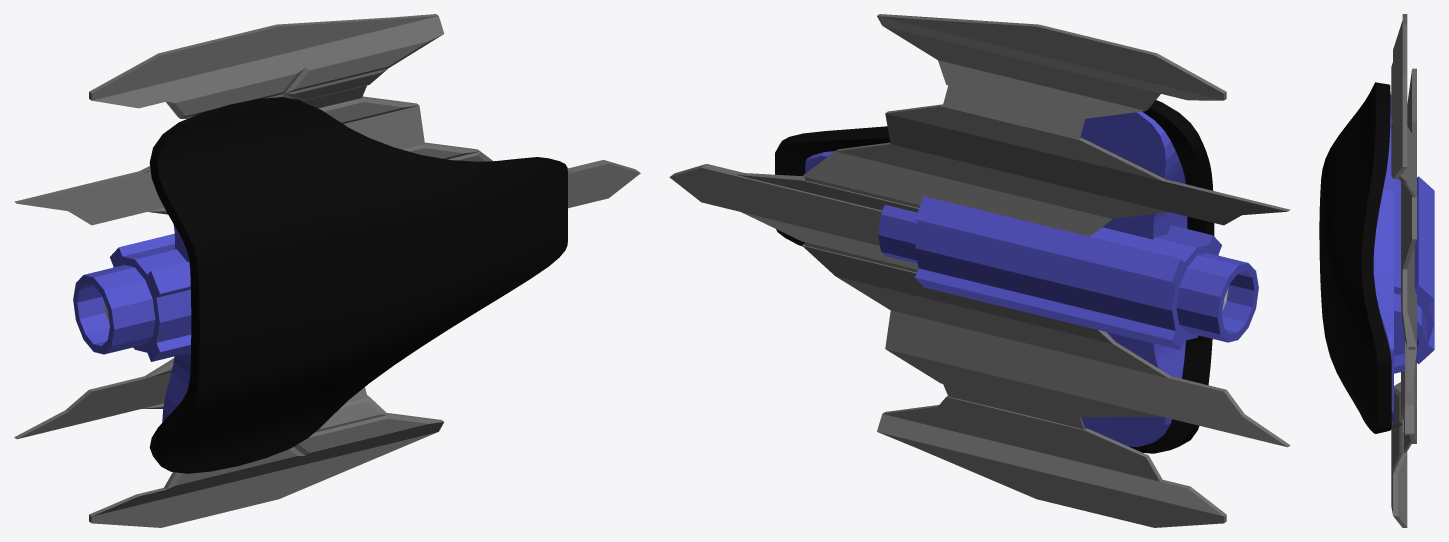
File: ship03.fbx
3 views of the same model, side by side, from view 1: azimuth 30°, elevation 25°; view 2: azimuth 150°, elevation 25°; view 3: azimuth 270°, elevation 25° (orthographic). The views are drawn at different scales.
Visible parts, largest first — view 1: ship03; view 2: ship03; view 3: ship03.
Part boxes in pixels (x1,y1,x2,y2): ship03: (14, 14, 640, 527); ship03: (669, 14, 1290, 527); ship03: (1319, 14, 1434, 527).
Bounding box in the file's own units: 4.32 × 3.15 × 0.8002.
